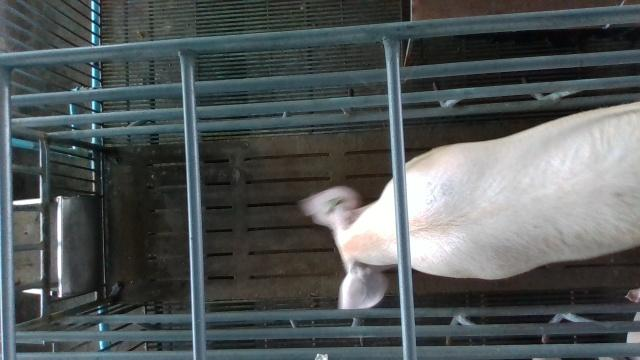sow-stand: (297, 99, 640, 309)
